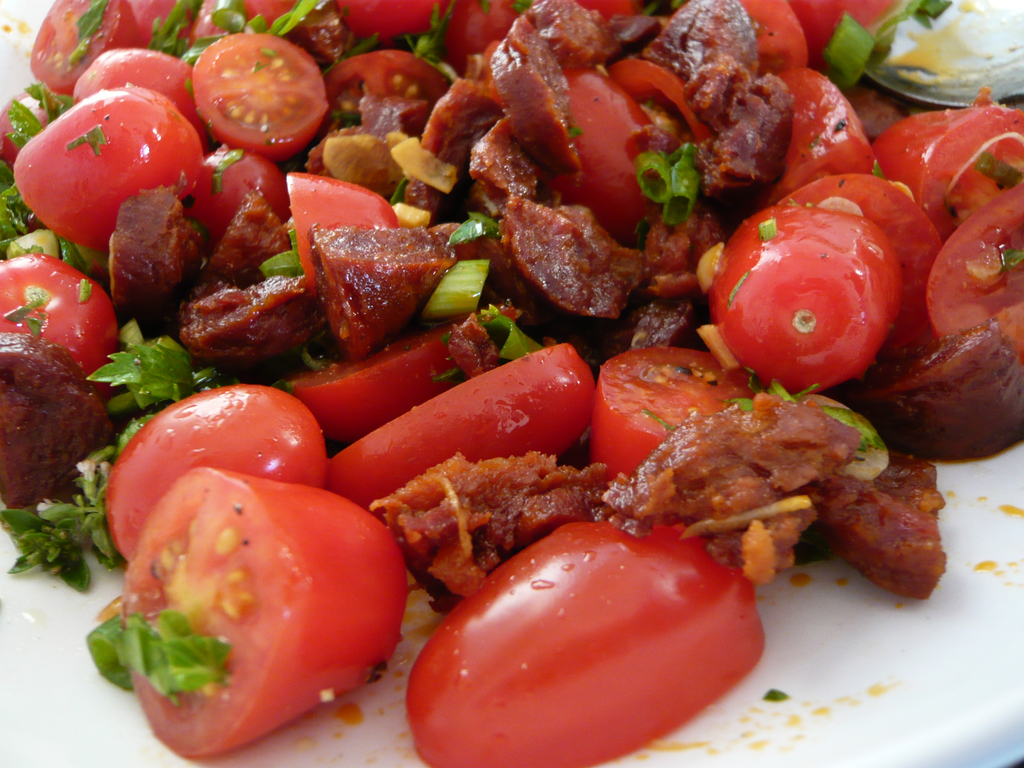Tomato: (400, 528, 768, 758), (126, 467, 409, 753), (314, 348, 595, 506), (112, 384, 323, 563), (713, 203, 905, 395), (15, 87, 196, 248), (588, 344, 757, 485), (281, 325, 458, 441), (193, 33, 327, 162), (931, 179, 1023, 350), (0, 254, 119, 376), (286, 172, 397, 298), (72, 48, 199, 126), (321, 44, 450, 115)
